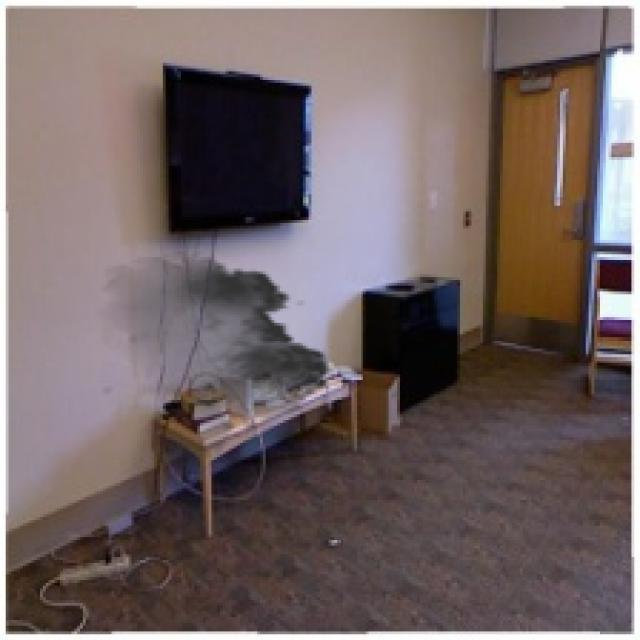Smoke: (88, 252, 340, 459)
